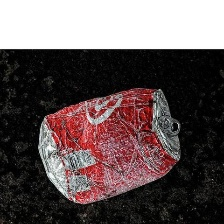can: (35, 80, 189, 210)
